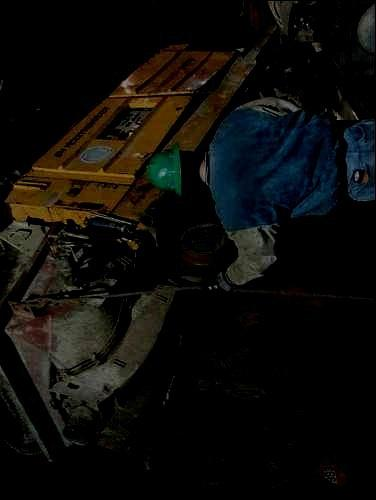helmet: (145, 142, 200, 196)
